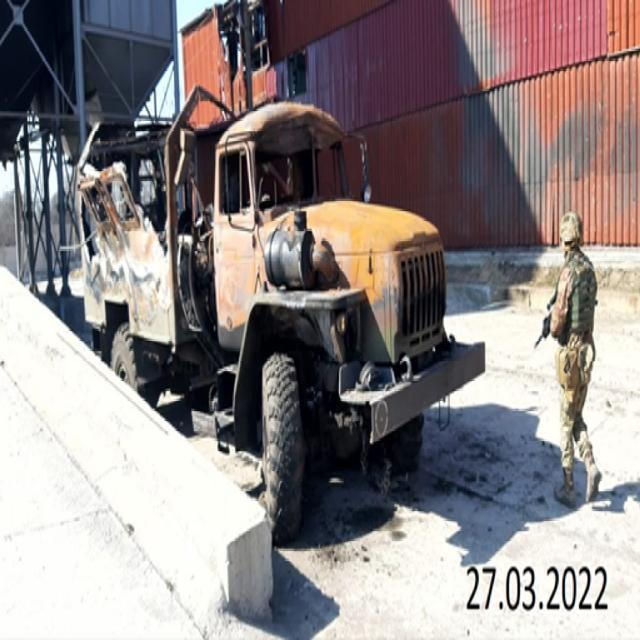TRUCK: (68, 84, 490, 544)
